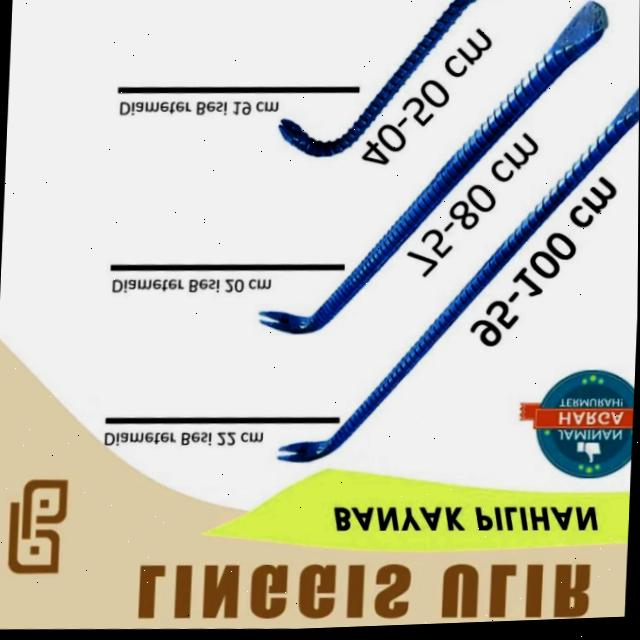crow bar: (270, 77, 639, 486), (246, 0, 614, 357), (269, 0, 512, 179)
